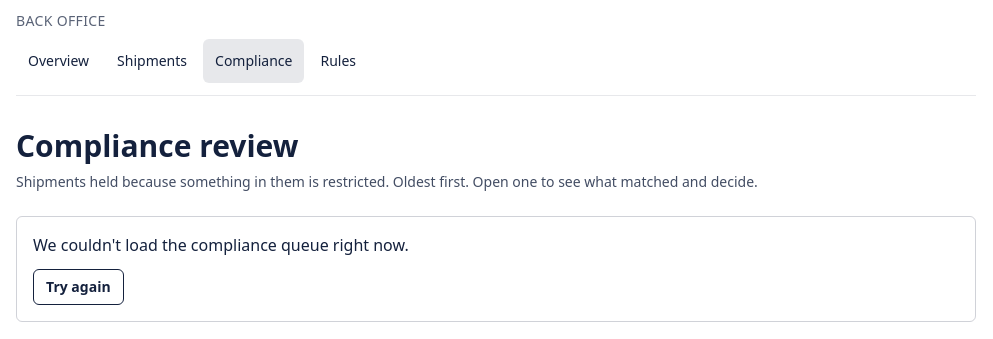
Test: compliance queue › says when nothing is waiting, and when it can't load
Click the button "Try again" at (78, 287), box [33,269,124,305]
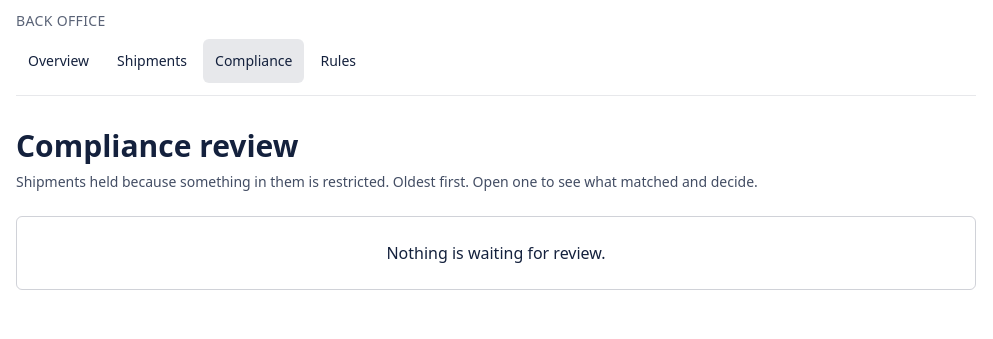
expect the text "Nothing is waiting for review." is shown: met, box [16,216,976,290]
